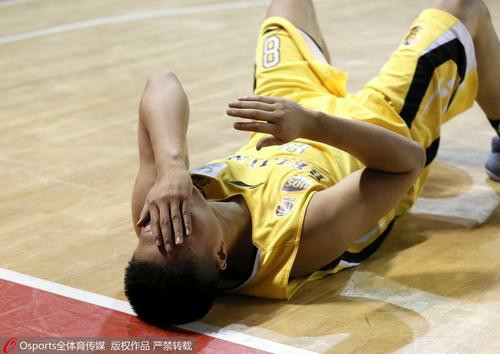down: (81, 5, 475, 326)
